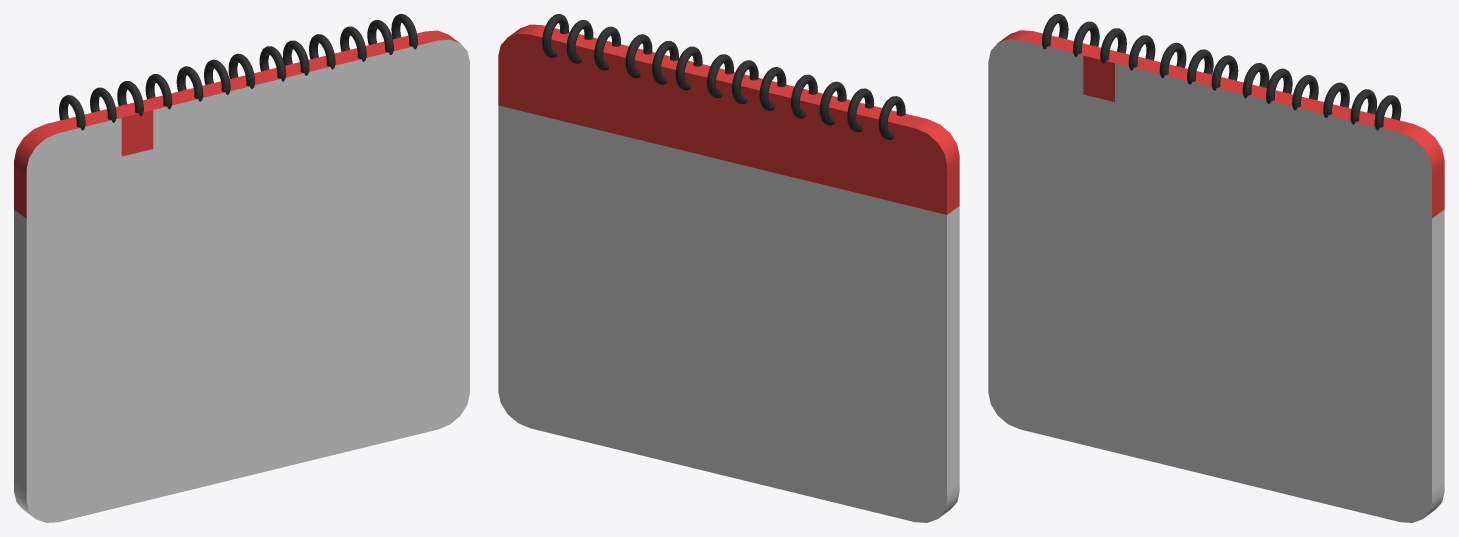
File: Calendar.fbx
3 renders of one model, left to right at view 1: azimuth 30°, elevation 25°; view 2: azimuth 150°, elevation 25°; view 3: azimuth 330°, elevation 25°, orthographic.
Visible parts, largest first — view 1: Cube.021; view 2: Cube.021; view 3: Cube.021.
Boxes of the visible parts, x1,y1,x2,y2 form: Cube.021: (14,14,469,522); Cube.021: (498,14,959,522); Cube.021: (988,14,1444,522).
Bounding box in the file's own units: 434 × 385 × 37.56.
